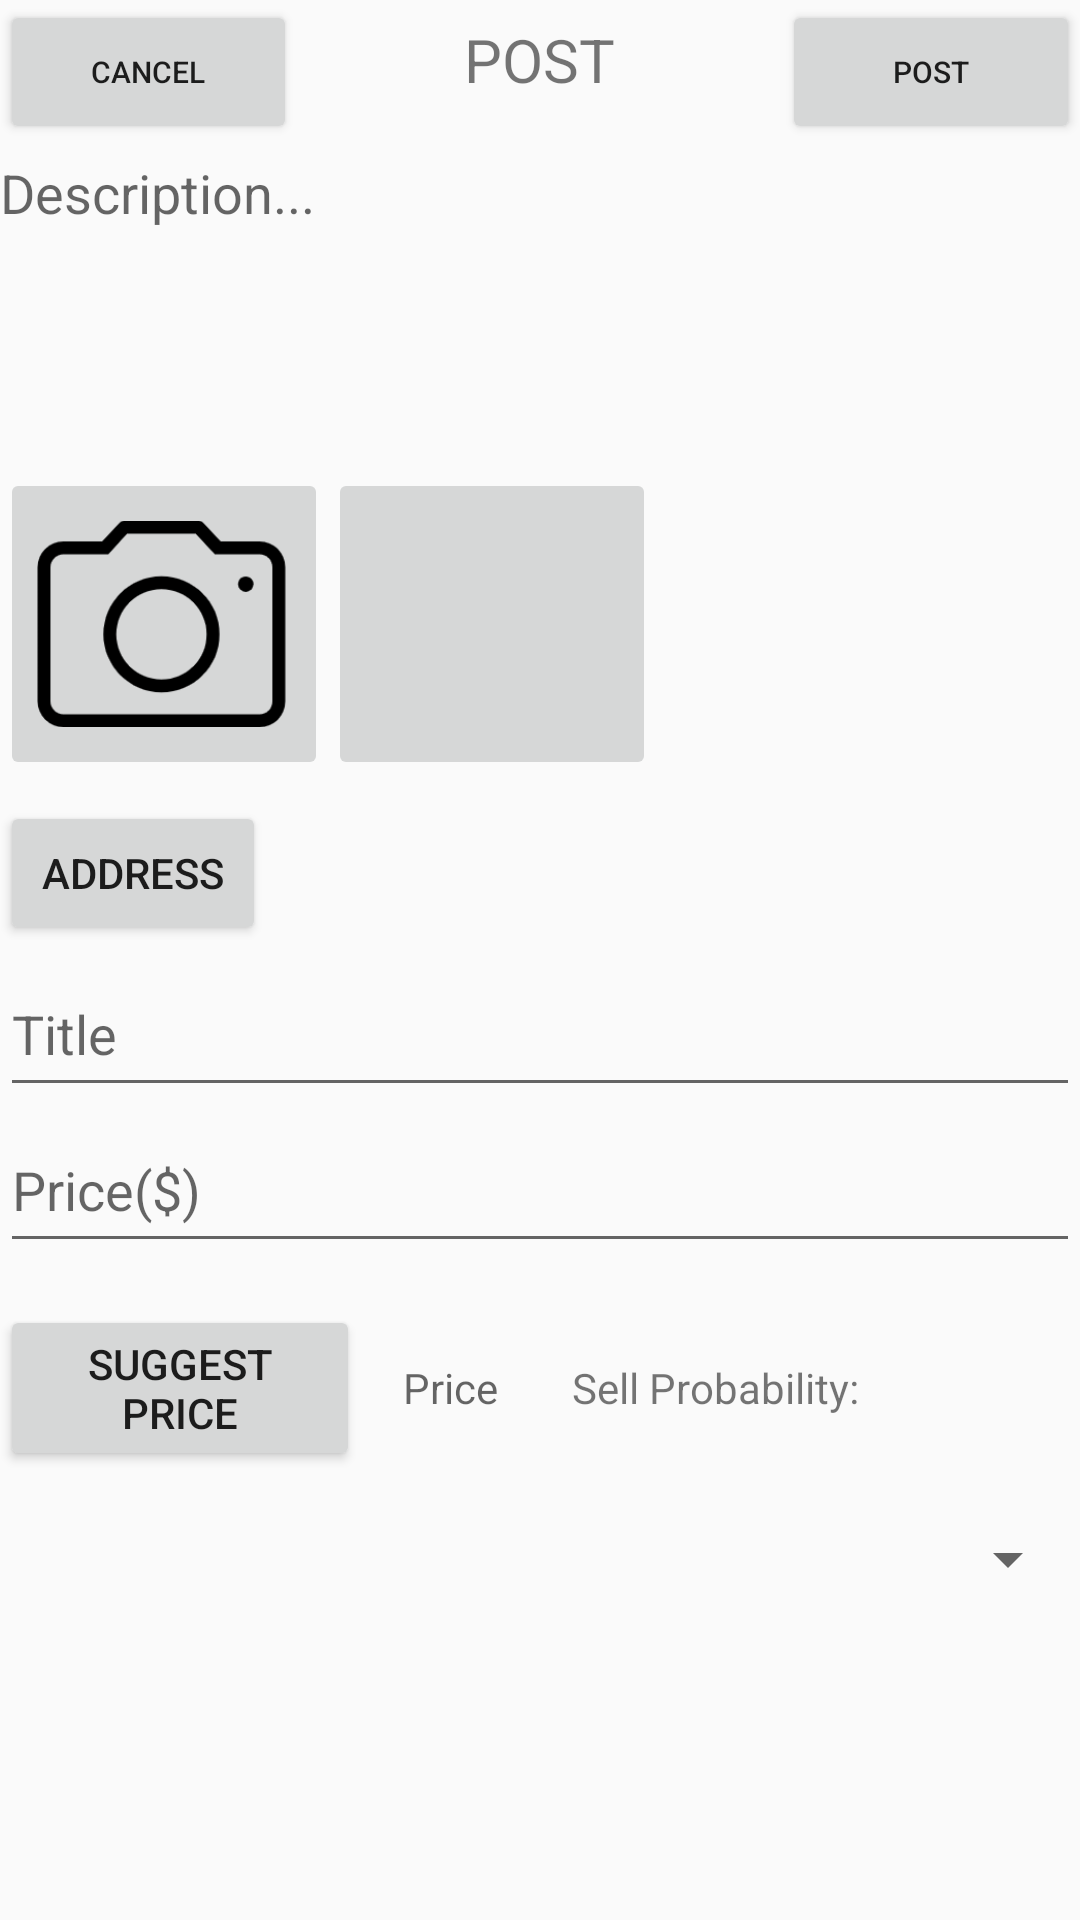

Icon bounding boxes for this 1080px x 1920px phone screenshot, format region(x1, y1, x2, y2):
camera: region(12, 486, 316, 762)
